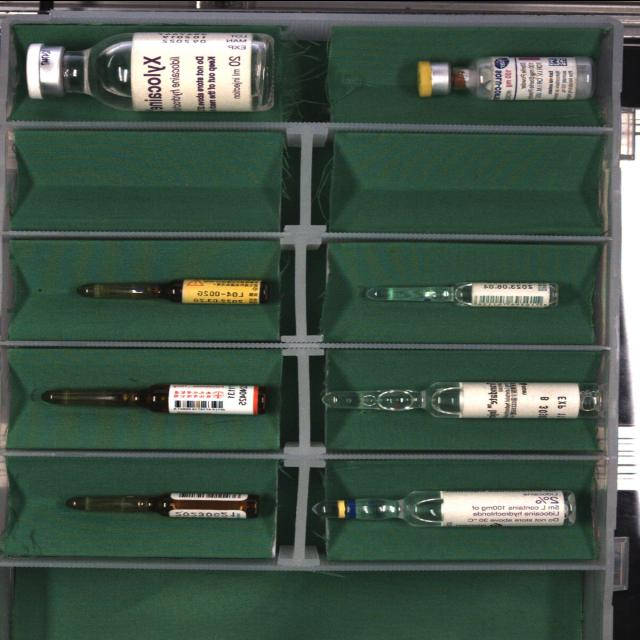Vials: (26, 31, 274, 110), (417, 56, 593, 99)
